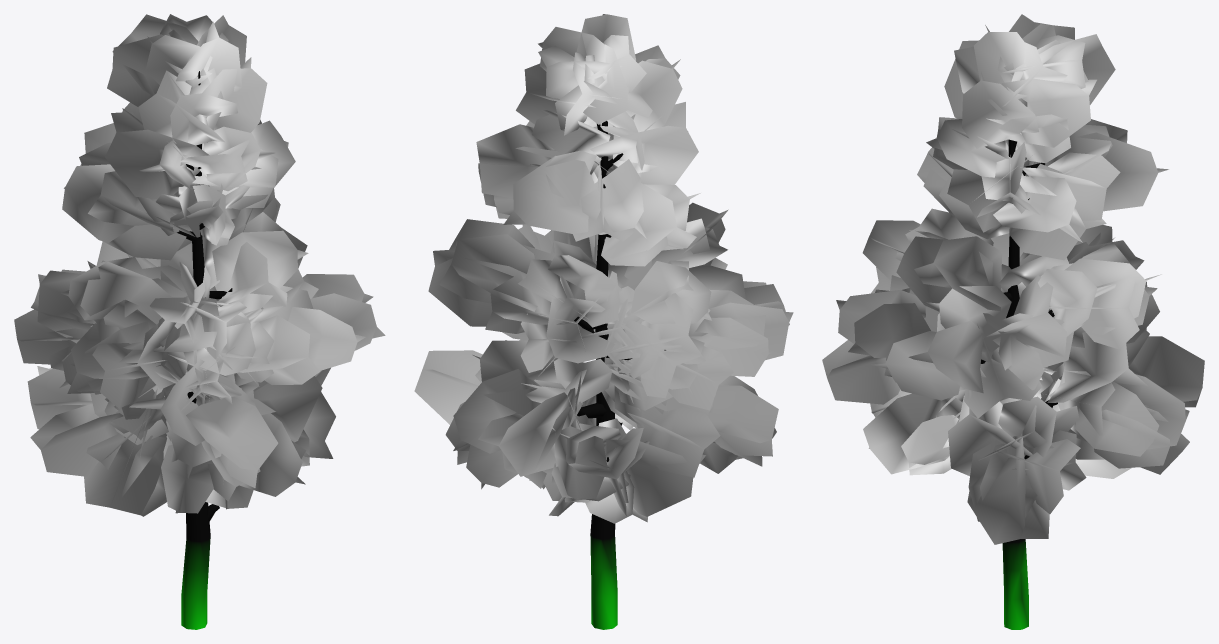
File: SM_FirTree3.FBX
The picture shows the model from 3 angles, left to right: view 1: azimuth 30°, elevation 25°; view 2: azimuth 150°, elevation 25°; view 3: azimuth 270°, elevation 25°; orthographic projection.
Visible parts, largest first — view 1: SM_FirTree3; view 2: SM_FirTree3; view 3: SM_FirTree3.
Boxes of the visible parts, x1,y1,x2,y2 form: SM_FirTree3: [14, 14, 385, 629]; SM_FirTree3: [414, 14, 793, 629]; SM_FirTree3: [822, 14, 1204, 629].
Size of the model in its own units: 662 by 669 by 1161.
